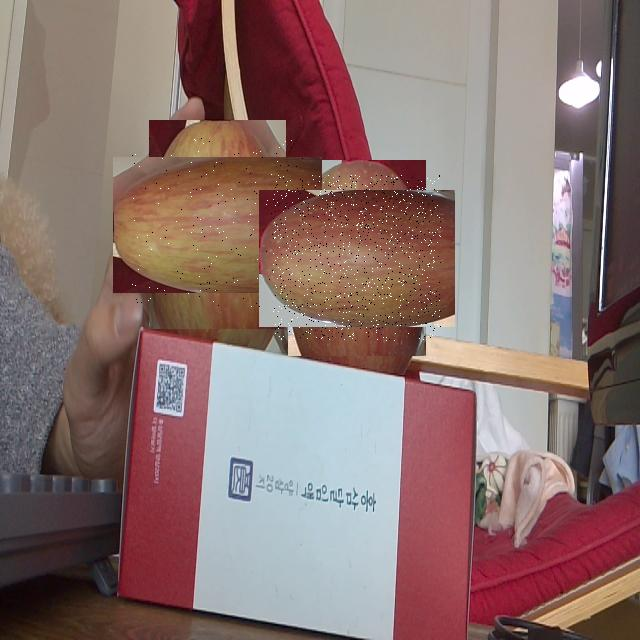apple: (131, 138, 304, 311), (273, 175, 441, 341)
